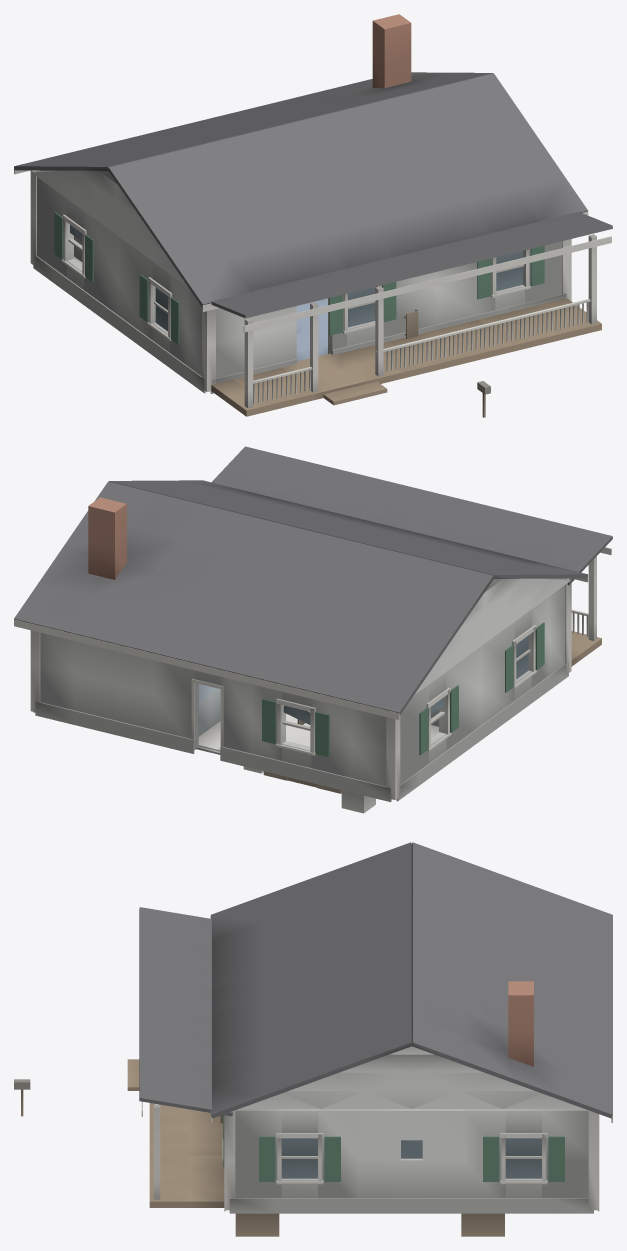
The model's file is casa_us_3.glb.
3 renders of one model, top to bottom at view 1: azimuth 30°, elevation 25°; view 2: azimuth 150°, elevation 25°; view 3: azimuth 270°, elevation 25°, orthographic. The views are drawn at different scales.
Visible parts, largest first — view 1: longe, ext, detalhe, dentro; view 2: longe, ext, detalhe, dentro, geladeira_cozinha4; view 3: longe, ext, detalhe, guarda_roupa_quarto14, guarda_roupa_quarto24.
Part boxes in pixels (box(x1,y1,x2,y2)): longe: box(14, 72, 612, 416); ext: box(30, 14, 571, 393); detalhe: box(54, 212, 544, 417); dentro: box(73, 236, 328, 361); longe: box(14, 446, 612, 719); ext: box(30, 497, 571, 802); detalhe: box(191, 622, 544, 757); dentro: box(196, 684, 439, 754); geladeira_cozinha4: box(341, 790, 375, 813); longe: box(139, 842, 612, 1207); ext: box(224, 981, 599, 1213); detalhe: box(14, 1059, 564, 1184); guarda_roupa_quarto14: box(235, 1213, 279, 1236); guarda_roupa_quarto24: box(461, 1213, 504, 1236).
Size of what is drawn, in the model's own units: 13 by 7.04 by 16.45.
